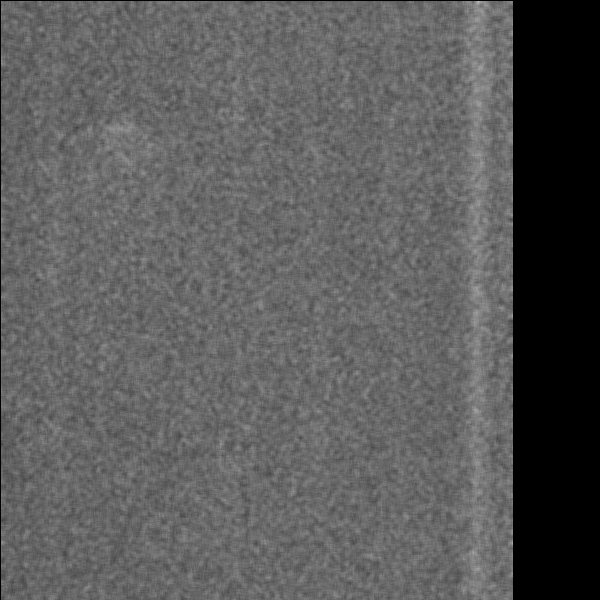spark: (93, 119, 147, 138)
